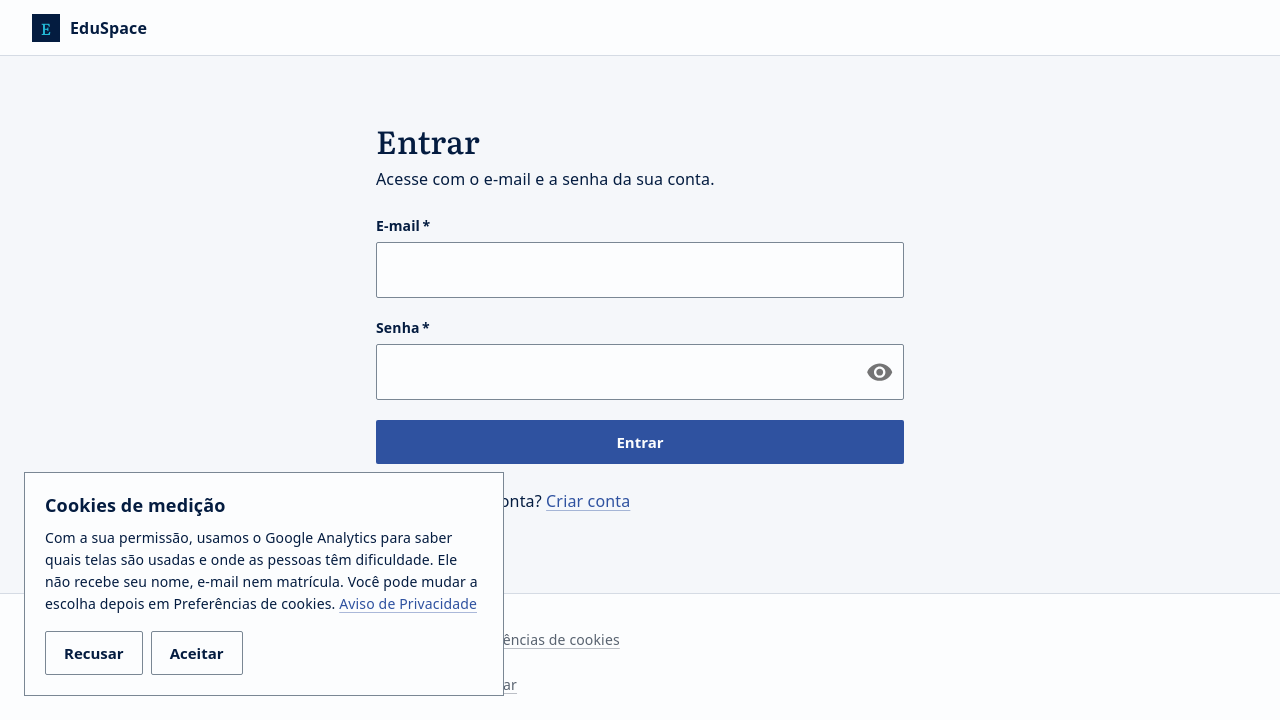
Test case: login › signs in and returns to the page the visitor wanted
expect the heading "Entrar" is shown: met, box [376, 116, 480, 164]
Step 1. Type "lucas@umj.edu.br" into the field labelled "E-mail *" → (640, 270), box [376, 242, 904, 298]
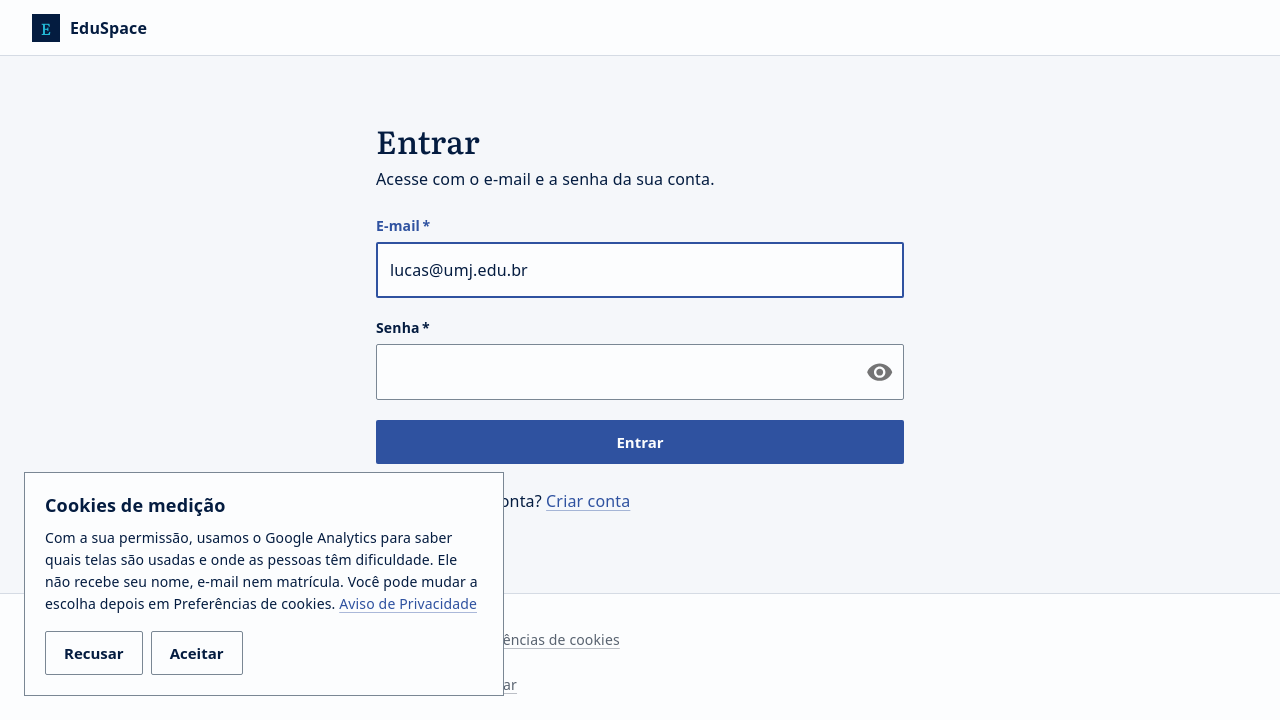
Step 2. Type "Senha123" into the password field labelled "Senha *" → (613, 372), box [376, 344, 850, 400]
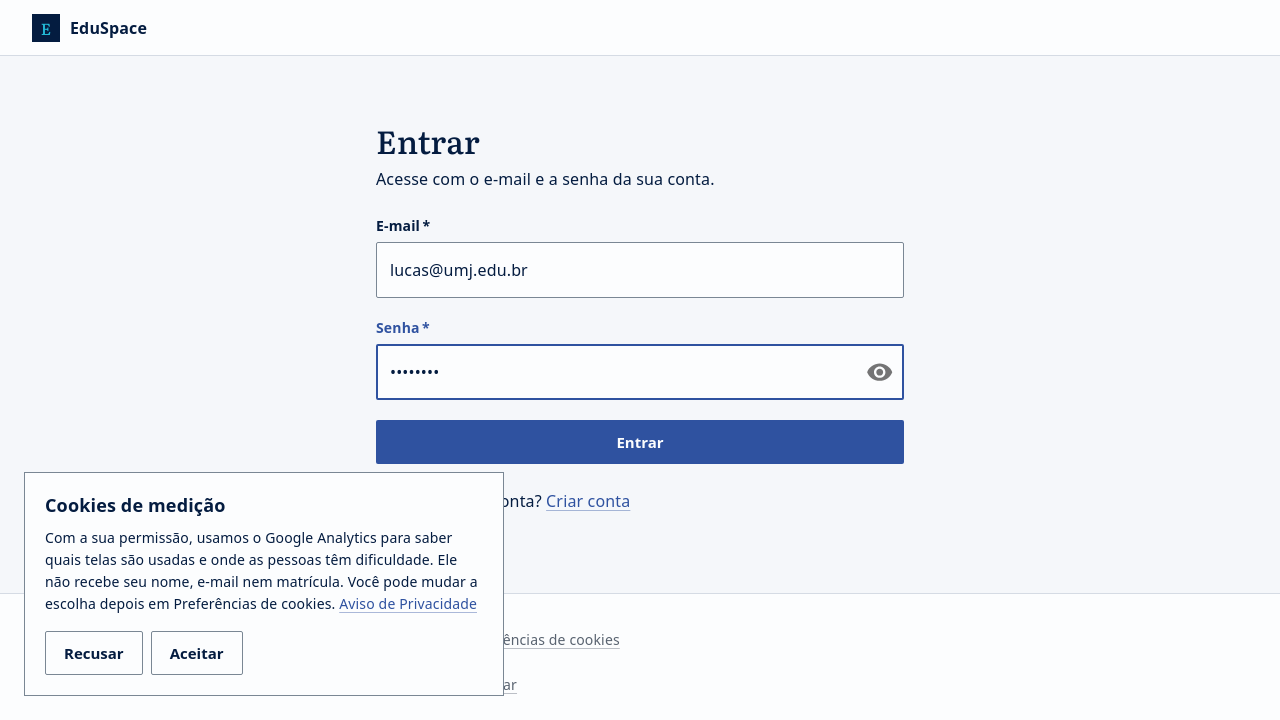
Step 3. Click the button "Entrar" → click(640, 442), box [376, 420, 904, 464]
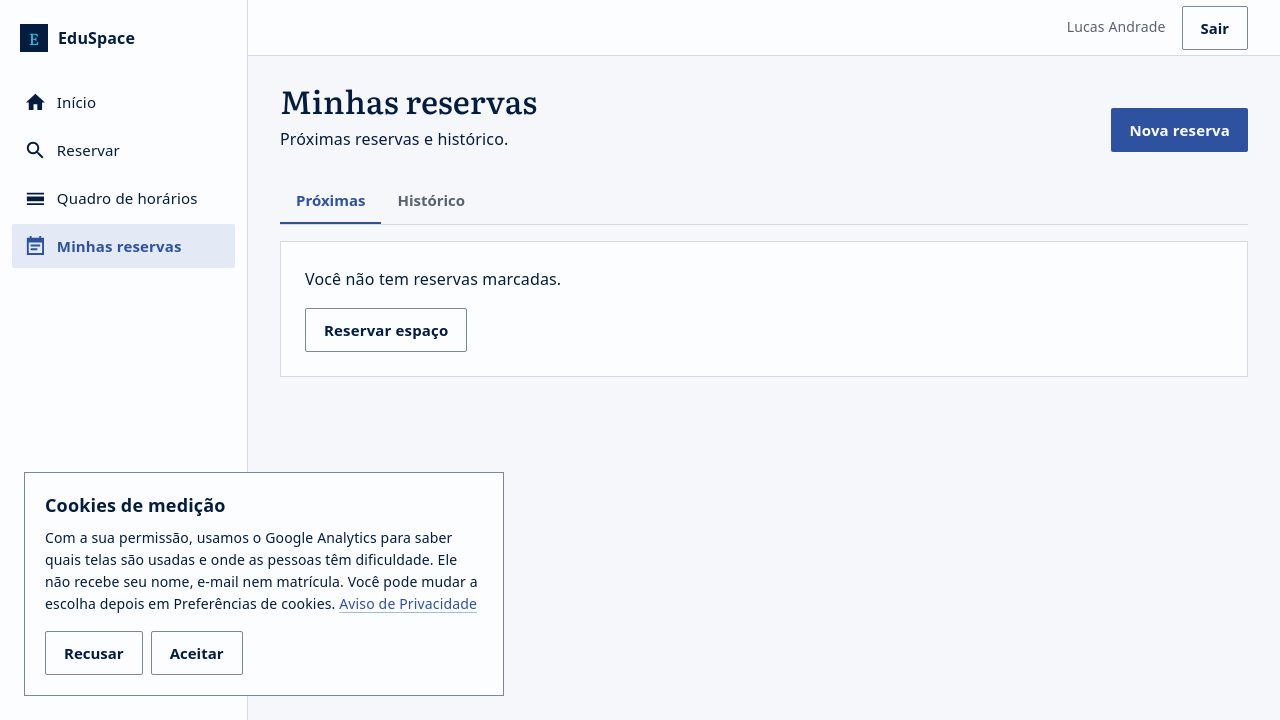
expect the heading "Minhas reservas" is shown: met, box [280, 80, 537, 120]
